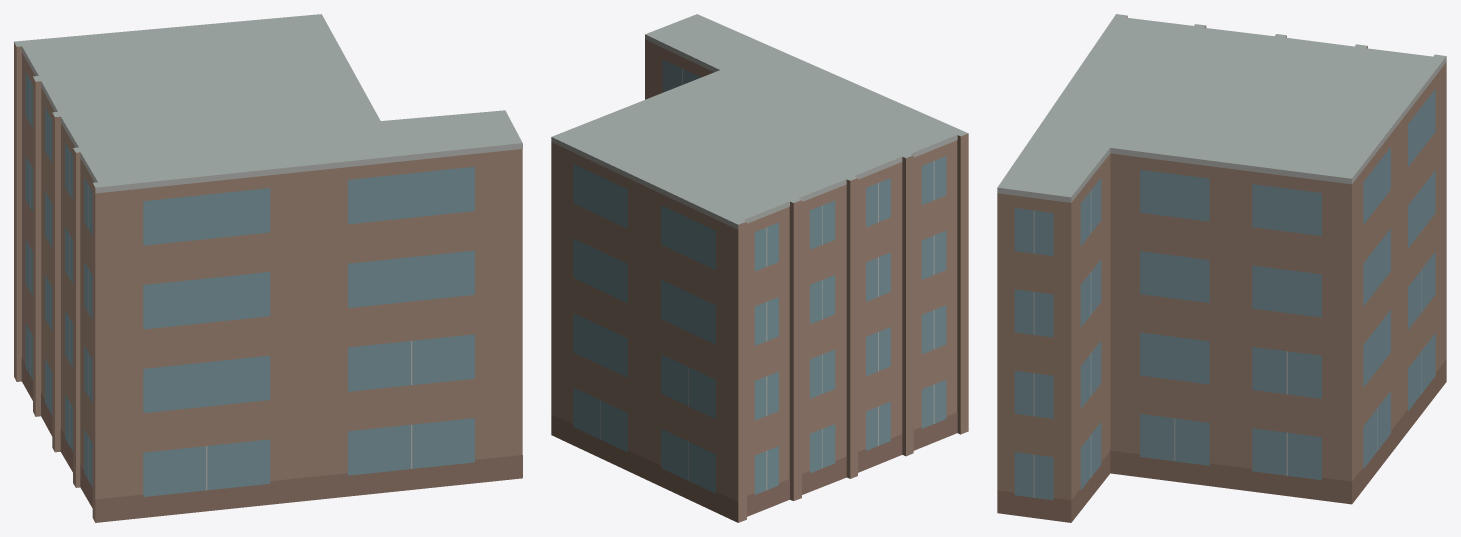
The model's file is survey-upis-32557142.glb.
3 views of the same model, side by side, from view 1: azimuth 30°, elevation 25°; view 2: azimuth 150°, elevation 25°; view 3: azimuth 270°, elevation 25° (orthographic). The views are drawn at different scales.
Parts seen in each view (by area): view 1: survey-upis-32557142.tmp; view 2: survey-upis-32557142.tmp; view 3: survey-upis-32557142.tmp.
Boxes of the visible parts, x1,y1,x2,y2 form: survey-upis-32557142.tmp: [14, 14, 522, 522]; survey-upis-32557142.tmp: [551, 14, 968, 522]; survey-upis-32557142.tmp: [997, 14, 1446, 522].
Size of the model in its own units: 17.16 by 14.2 by 17.77.
